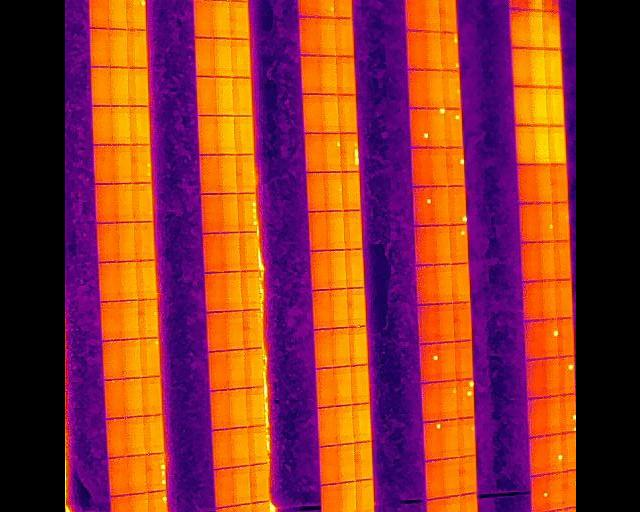Cell: (413, 187, 434, 225), (409, 108, 429, 146), (418, 344, 438, 381), (140, 338, 159, 376), (138, 300, 157, 338), (323, 133, 341, 172), (456, 418, 474, 457), (445, 148, 463, 187), (422, 422, 440, 459), (530, 476, 548, 512), (444, 109, 461, 147), (449, 225, 466, 263), (449, 187, 466, 225), (536, 203, 552, 243), (125, 0, 146, 30), (439, 382, 456, 419), (428, 108, 444, 147), (546, 434, 562, 472), (443, 70, 459, 108), (543, 319, 559, 357), (559, 357, 573, 396), (563, 471, 576, 508), (147, 491, 166, 512), (316, 0, 334, 18)
Cell-Multi: (130, 145, 150, 183), (237, 193, 256, 232), (145, 454, 164, 492), (439, 32, 457, 70), (455, 380, 473, 417), (560, 395, 576, 433)
No-Anomaly: (198, 116, 219, 156), (510, 48, 530, 88), (520, 242, 541, 280), (95, 184, 116, 222), (411, 148, 431, 187), (106, 419, 126, 458), (300, 56, 320, 95), (312, 290, 332, 329), (316, 368, 336, 407), (129, 106, 149, 145), (132, 183, 152, 222), (201, 194, 221, 233), (199, 155, 219, 194), (204, 273, 224, 312), (228, 0, 248, 39), (408, 69, 428, 107), (416, 266, 436, 304), (414, 227, 434, 265), (105, 380, 125, 418), (108, 458, 128, 496), (127, 455, 147, 493), (126, 30, 146, 68), (134, 222, 154, 260), (143, 415, 163, 453), (192, 0, 212, 38), (203, 233, 222, 273), (517, 202, 536, 242), (515, 164, 534, 204), (523, 281, 542, 321), (90, 67, 109, 106), (111, 106, 130, 145), (338, 95, 357, 134), (336, 56, 355, 95), (302, 95, 321, 134), (314, 329, 333, 368), (310, 251, 329, 290), (317, 407, 336, 446), (320, 95, 339, 134), (137, 261, 156, 300), (196, 77, 215, 116), (195, 38, 214, 77), (208, 351, 227, 390), (206, 312, 225, 351), (210, 391, 229, 430), (235, 155, 254, 194), (232, 78, 251, 117), (514, 125, 533, 164), (99, 262, 118, 301), (96, 223, 115, 262), (542, 11, 561, 50), (527, 48, 546, 87), (417, 305, 437, 342), (122, 340, 141, 378), (124, 379, 143, 417), (119, 301, 138, 339), (117, 262, 136, 300), (344, 250, 363, 288), (407, 31, 426, 69), (420, 383, 439, 421), (334, 18, 353, 56), (127, 68, 146, 106), (141, 377, 160, 415), (213, 469, 232, 507), (94, 145, 113, 183), (451, 264, 470, 302), (525, 360, 544, 398), (103, 341, 122, 379), (347, 288, 365, 328), (330, 289, 348, 329), (513, 86, 531, 126), (222, 233, 240, 273), (525, 9, 543, 49), (528, 436, 546, 476), (348, 327, 366, 366), (92, 106, 110, 145), (89, 28, 107, 67), (108, 29, 126, 68), (116, 223, 134, 262), (115, 183, 133, 222), (305, 133, 323, 172), (242, 310, 260, 349), (240, 271, 258, 310), (306, 173, 324, 212), (319, 56, 337, 95), (326, 211, 344, 250), (508, 9, 526, 48), (212, 0, 230, 39), (217, 116, 235, 155), (231, 39, 249, 78), (229, 389, 247, 428), (453, 302, 471, 341), (524, 321, 542, 360), (543, 49, 561, 88), (126, 417, 144, 455), (352, 404, 370, 442), (545, 87, 563, 125), (112, 145, 130, 183), (298, 17, 316, 55), (317, 18, 335, 56), (318, 446, 336, 484), (342, 172, 360, 210), (212, 430, 230, 468), (230, 428, 248, 466), (234, 117, 252, 155), (424, 460, 442, 498), (437, 342, 455, 380), (436, 304, 454, 342), (100, 302, 118, 340), (527, 399, 545, 437), (405, 0, 427, 31), (220, 194, 237, 234), (436, 264, 453, 304), (454, 341, 472, 378), (350, 365, 367, 404), (353, 442, 370, 481), (548, 126, 565, 165), (550, 164, 567, 203), (552, 203, 569, 242), (109, 67, 126, 106), (246, 387, 263, 426), (244, 348, 261, 387), (329, 250, 346, 289), (344, 211, 361, 250), (214, 38, 231, 77), (218, 155, 235, 194), (215, 77, 232, 116), (226, 311, 243, 350), (223, 272, 240, 311), (227, 350, 244, 389), (233, 466, 250, 505), (430, 147, 447, 186), (239, 233, 256, 271), (248, 426, 265, 464), (250, 464, 267, 502), (324, 172, 341, 210), (308, 212, 325, 250), (332, 328, 349, 366), (440, 420, 457, 458), (557, 319, 573, 358), (336, 406, 352, 445), (334, 366, 350, 405), (426, 70, 442, 109), (424, 31, 440, 70), (544, 357, 560, 396), (530, 87, 546, 126), (534, 164, 550, 203), (542, 281, 558, 320), (442, 458, 459, 494), (554, 242, 570, 280), (337, 444, 353, 482), (459, 456, 475, 494), (434, 226, 450, 264), (545, 396, 560, 436), (561, 432, 576, 472), (532, 126, 547, 165), (438, 0, 456, 32), (548, 472, 563, 510), (106, 0, 125, 30), (433, 187, 448, 225), (557, 280, 571, 319), (88, 0, 107, 28), (321, 484, 340, 512), (540, 243, 554, 280), (356, 480, 372, 512), (340, 481, 355, 512), (426, 0, 440, 33), (129, 493, 148, 512), (333, 0, 351, 18), (110, 496, 130, 512), (459, 494, 476, 512), (296, 0, 315, 16), (443, 495, 460, 512), (425, 498, 443, 512), (251, 502, 268, 512), (234, 503, 251, 512)
Shadowing: (540, 0, 559, 12), (506, 0, 524, 9), (524, 0, 540, 10)
Unclassified: (339, 133, 357, 172)
